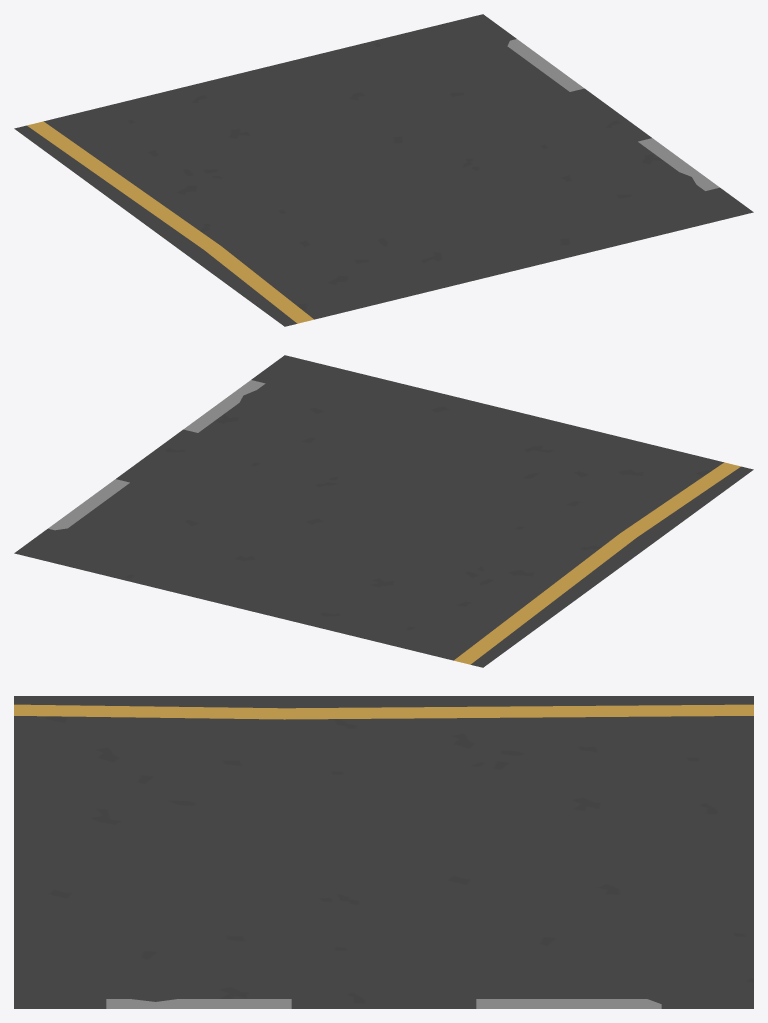
The model's file is SM_Env_Road_YellowLines_02.fbx.
3 renders of one model, top to bottom at view 1: azimuth 30°, elevation 25°; view 2: azimuth 150°, elevation 25°; view 3: azimuth 270°, elevation 25°, orthographic. The views are drawn at different scales.
Visible parts, largest first — view 1: SM_Env_Road_YellowLines_02; view 2: SM_Env_Road_YellowLines_02; view 3: SM_Env_Road_YellowLines_02.
Boxes of the visible parts, left/top/right/bottom form: SM_Env_Road_YellowLines_02: left=14, top=14, right=753, bottom=326; SM_Env_Road_YellowLines_02: left=14, top=355, right=753, bottom=667; SM_Env_Road_YellowLines_02: left=14, top=696, right=753, bottom=1008.
Bounding box in the file's own units: 500 × 3.65e-05 × 500.
